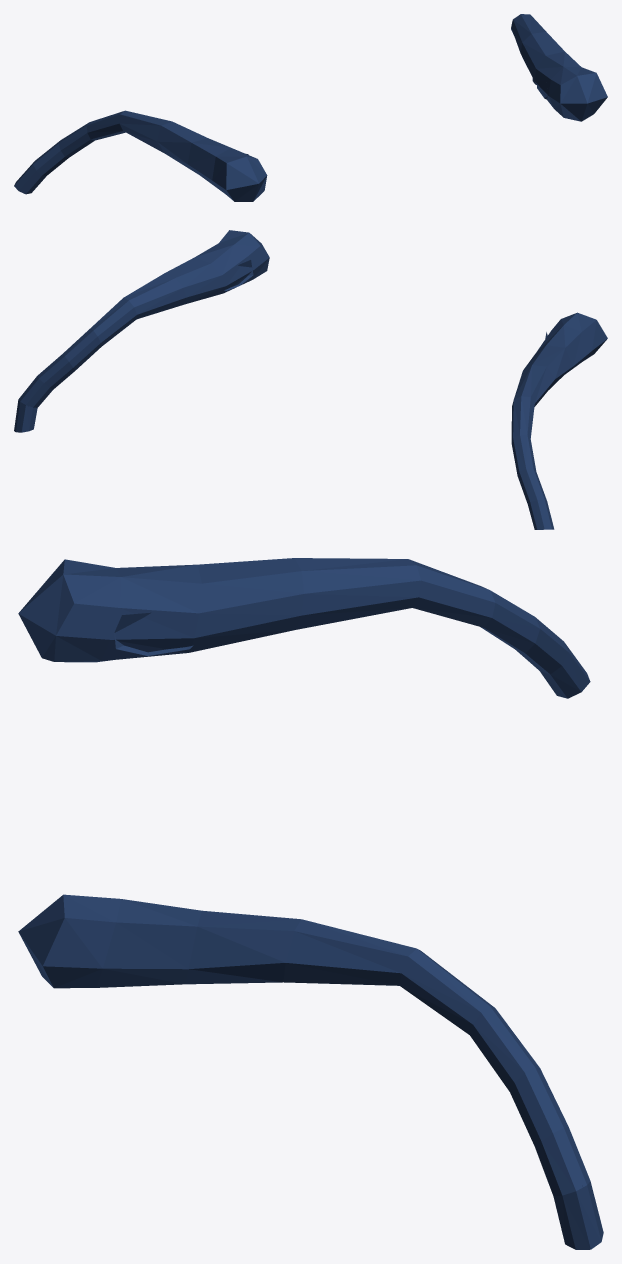
The model's file is Seno Petroso Superior.FBX.
The picture shows the model from 3 angles, top to bottom: view 1: azimuth 30°, elevation 25°; view 2: azimuth 150°, elevation 25°; view 3: azimuth 270°, elevation 25°; orthographic projection. The views are drawn at different scales.
Parts seen in each view (by area): view 1: CS_Veins; view 2: CS_Veins; view 3: CS_Veins.
Boxes of the visible parts, x1=… form: CS_Veins: x1=14, y1=14, x2=607, y2=201; CS_Veins: x1=14, y1=230, x2=607, y2=529; CS_Veins: x1=18, y1=558, x2=603, y2=1249.
Bounding box in the file's own units: 391 × 89.21 × 185.
